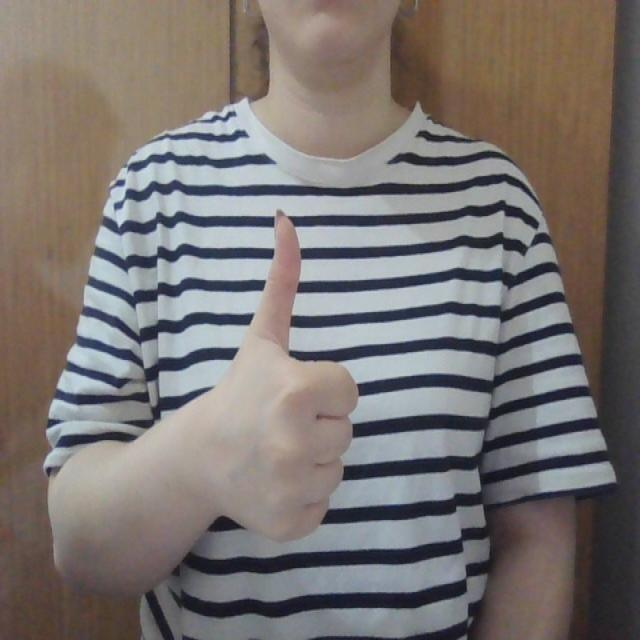Tamam: (204, 200, 369, 546)
